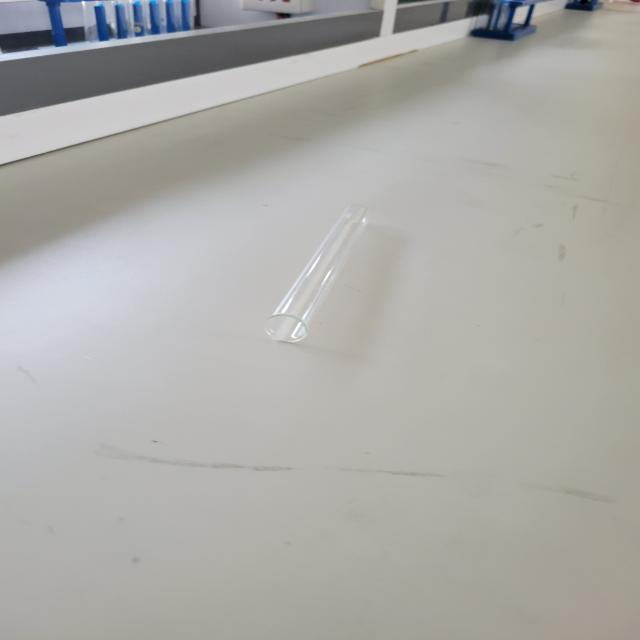Test_Tube: (233, 180, 409, 364)
